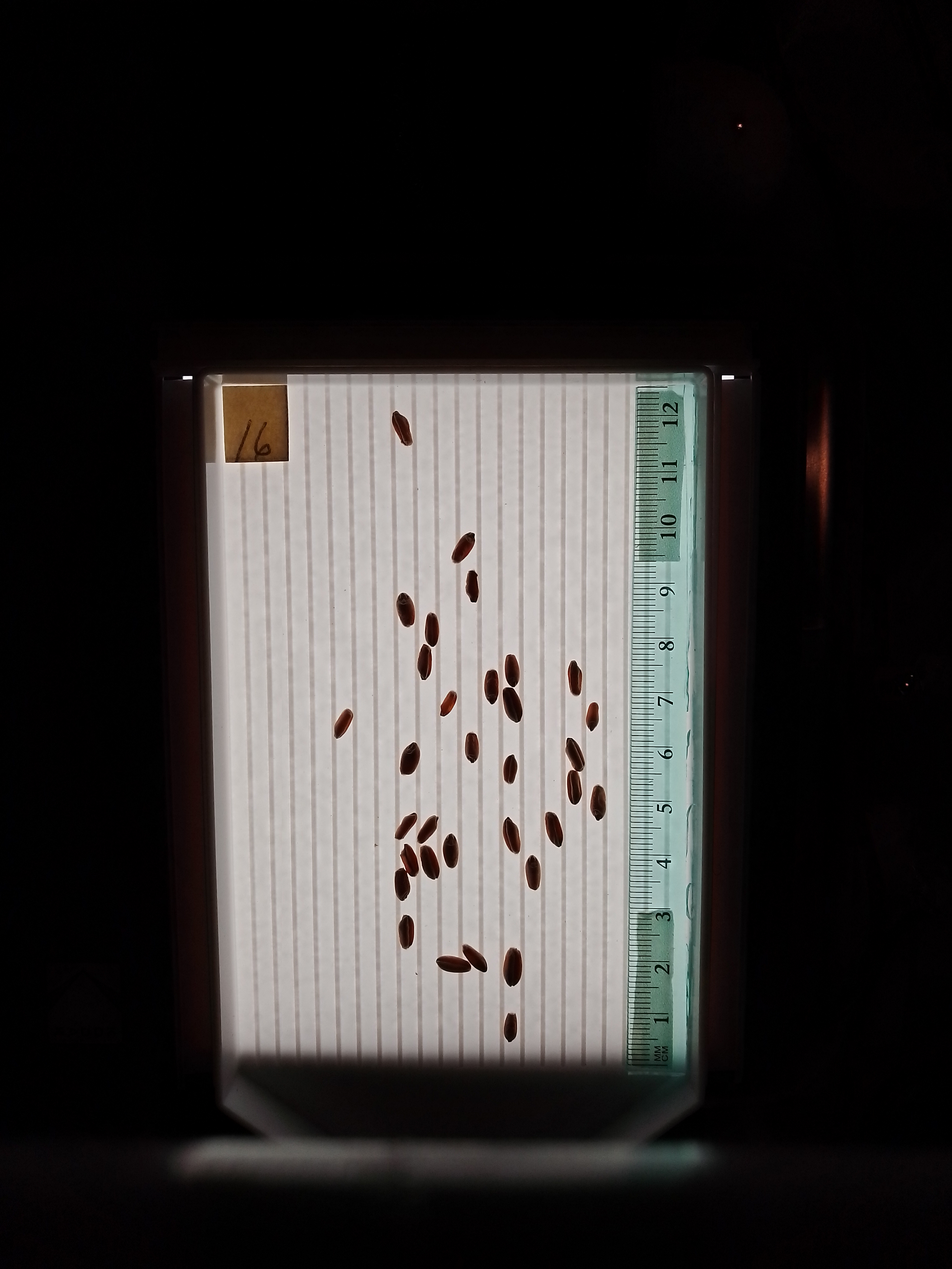seed mask: (503, 949, 522, 987), (392, 412, 413, 446), (452, 533, 475, 564), (503, 689, 522, 723), (545, 813, 564, 846), (396, 594, 415, 627), (463, 945, 487, 971), (400, 743, 420, 774), (395, 813, 417, 840), (566, 738, 584, 771), (418, 815, 438, 844), (398, 915, 415, 949), (503, 819, 520, 853), (401, 845, 419, 877), (421, 847, 439, 879), (334, 709, 353, 738), (438, 956, 470, 973), (443, 835, 459, 868), (526, 856, 541, 890), (591, 786, 606, 820), (567, 771, 582, 804), (484, 670, 499, 703), (418, 645, 432, 679), (395, 869, 410, 900), (568, 662, 582, 694), (425, 614, 439, 646), (503, 755, 518, 784), (505, 655, 519, 686), (503, 1013, 518, 1041), (465, 734, 479, 762), (440, 692, 457, 715), (586, 703, 599, 730)
